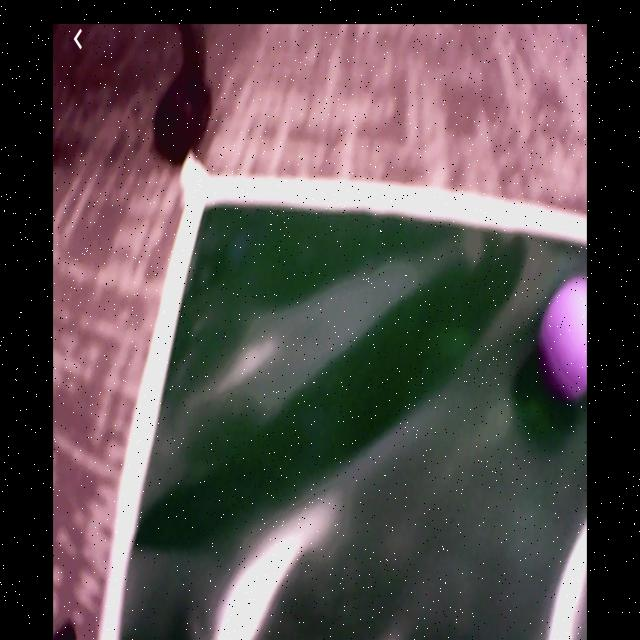ball: (542, 276, 587, 400)
